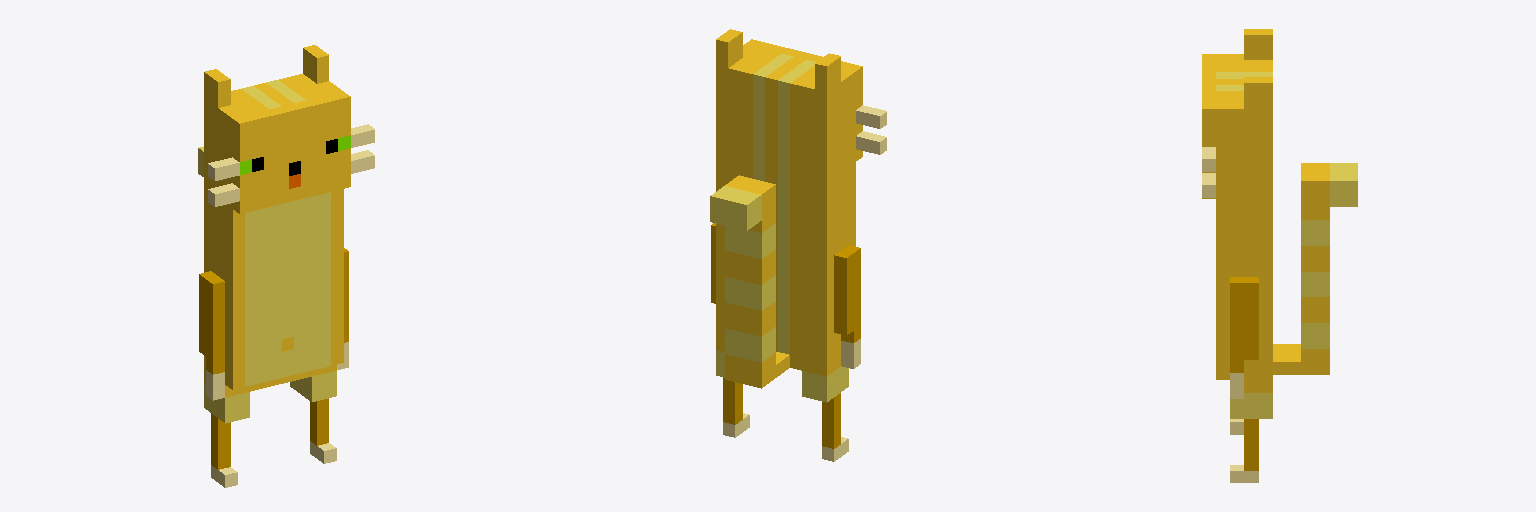
3 renders of one model, left to right at view 1: azimuth 30°, elevation 25°; view 2: azimuth 150°, elevation 25°; view 3: azimuth 270°, elevation 25°, orthographic.
Bounding box in the file's own units: 13 × 31 × 11.
Materials: 1 (1 with a texture image).